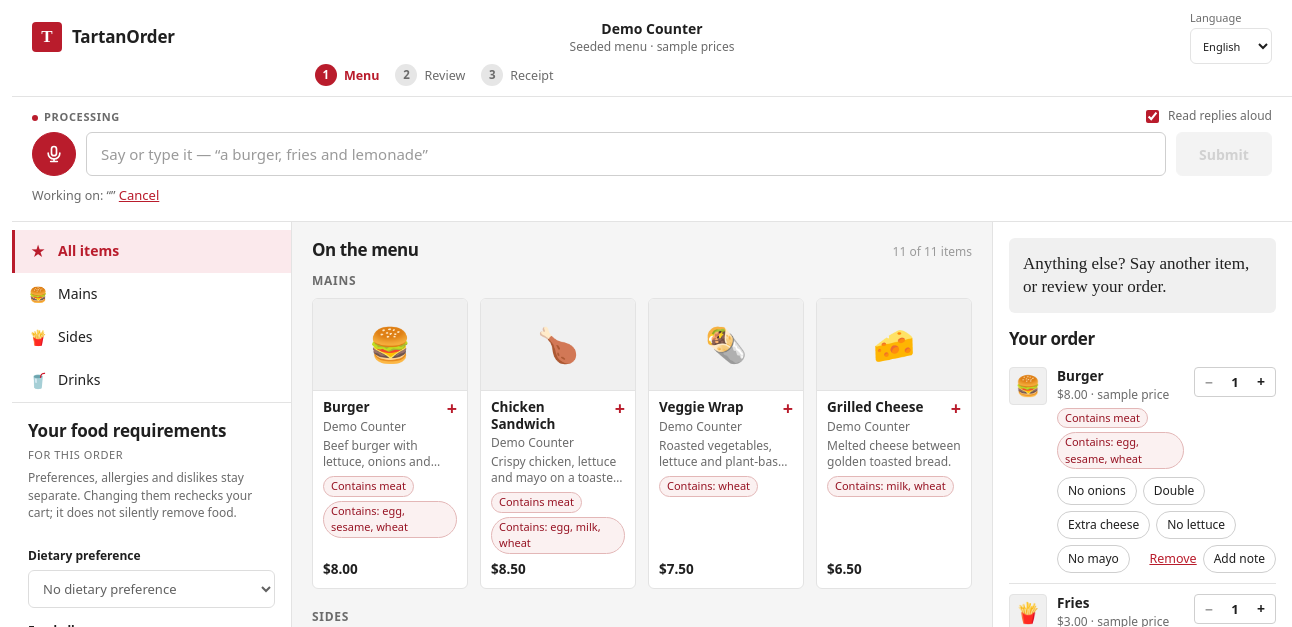
it: Kiosk (fake controller, mocked voice) › busy blocks Review and Confirm but not Submit/Discard; parsing can be cancelled
Click the button with test id "cancel-parsing".
click(139, 196)  # box [119,182,159,209]
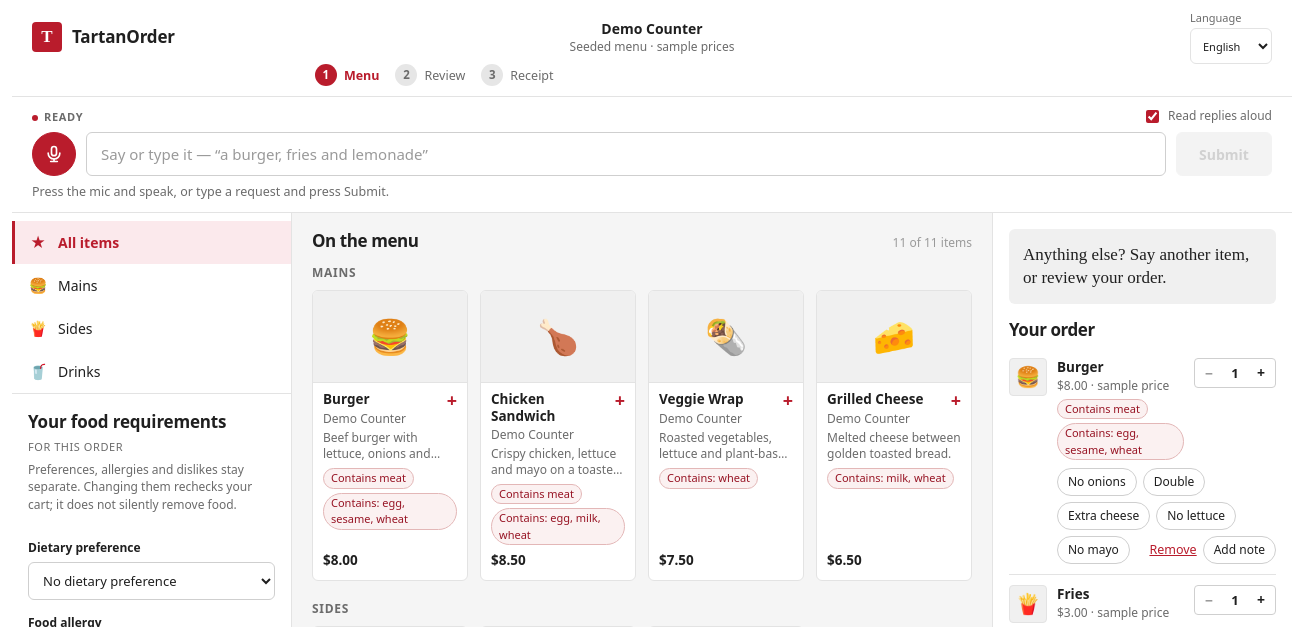
Type "x" into the field with test id "text-input".
click(626, 154); type("x")  # box [86,132,1166,176]
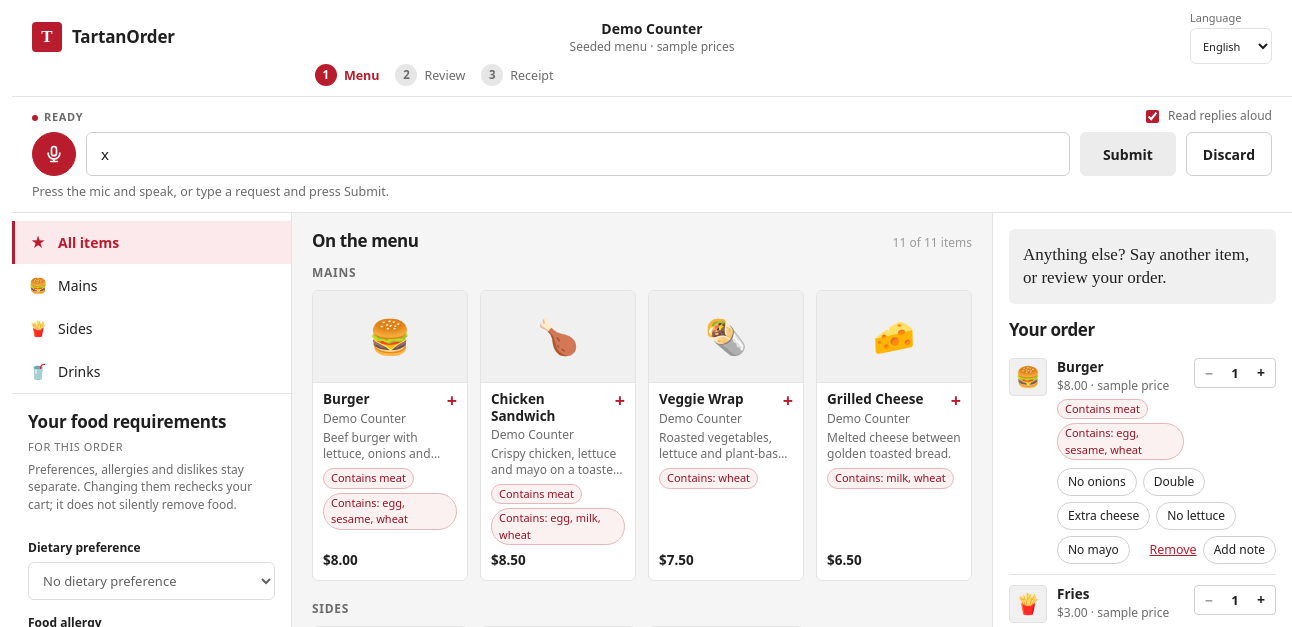
Expected: the button with test id "submit" is enabled, [1080,132,1176,176]
Expected: the button with test id "discard" is enabled, [1186,132,1272,176]
